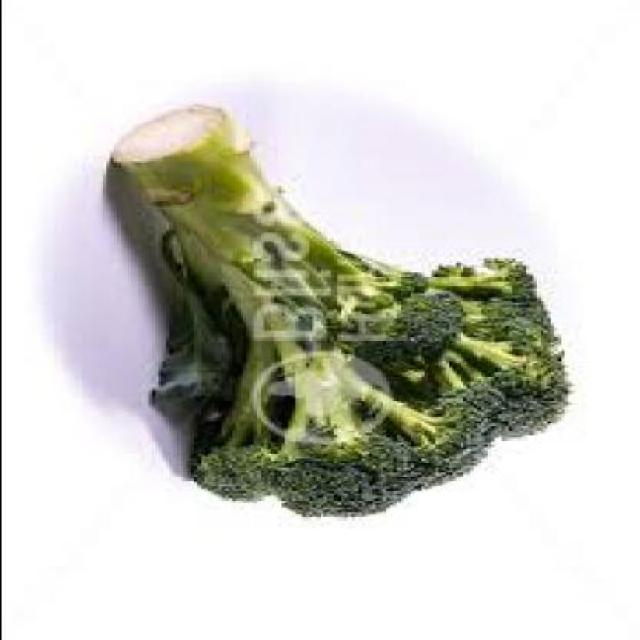BIODEGRADABLE: (109, 106, 573, 522)
